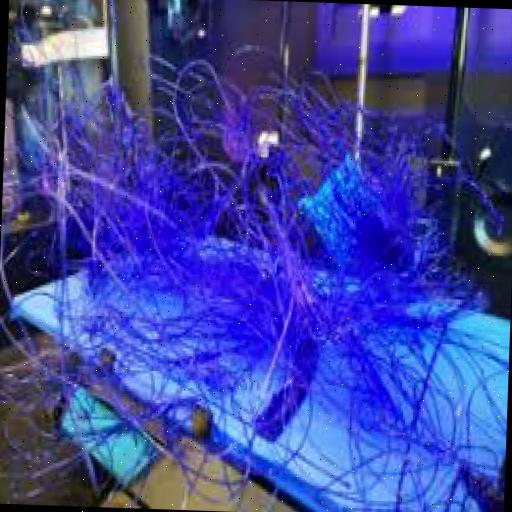spaghetti: (46, 56, 392, 386)
